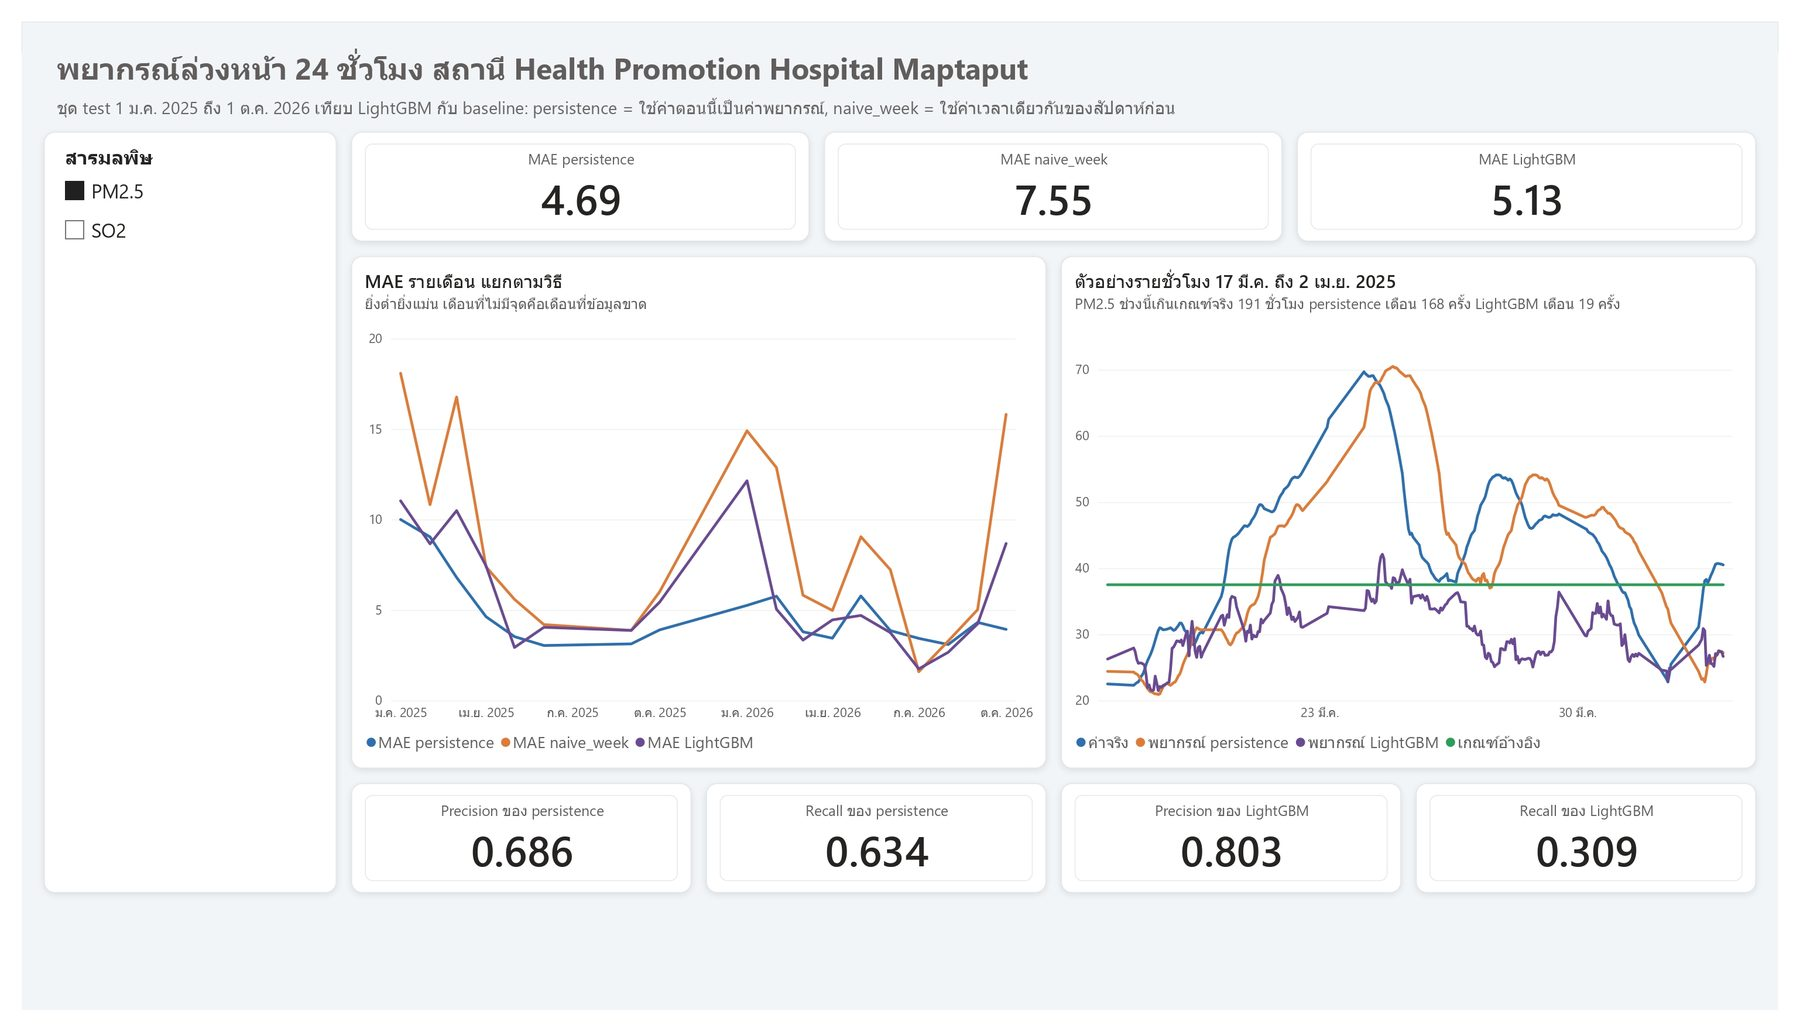

What the dashboard file says about the page in this screenshot:
{"tool":"powerbi","page":{"name":"พยากรณ์","canvas":[1920,1080],"ordinal":2},"visuals":[{"type":"textbox","box":[24.3,15.7,1871.4,72.9],"z":0},{"type":"textbox","box":[24.3,68.6,1871.4,51.4],"z":1000},{"type":"slicer","fields":{"Values":["forecast.pollutant_name"]},"box":[23.9,119.6,320.2,831.9],"z":2000},{"type":"cardVisual","fields":{"Data":["forecast.MAE persistence"]},"box":[360,120,501,120],"z":4000},{"type":"cardVisual","fields":{"Data":["forecast.MAE naive_week"]},"box":[877,120,501,120],"z":5000},{"type":"cardVisual","fields":{"Data":["forecast.MAE LightGBM"]},"box":[1394,120,502,120],"z":6000},{"type":"lineChart","title":"MAE รายเดือน แยกตามวิธี","fields":{"Category":["date.MonthStart"],"Y":["forecast.MAE persistence","forecast.MAE naive_week","forecast.MAE LightGBM"]},"box":[360,256,760,560],"z":7000},{"type":"lineChart","title":"ตัวอย่างรายชั่วโมง 17 มี.ค. ถึง 2 เม.ย. 2025","fields":{"Category":["forecast.target_time"],"Y":["forecast.ค่าจริง","forecast.พยากรณ์ persistence","forecast.พยากรณ์ LightGBM","forecast.เกณฑ์อ้างอิง"]},"box":[1136,256,760,560],"z":8000},{"type":"cardVisual","fields":{"Data":["forecast.Precision persistence"]},"box":[360,832,372,120],"z":9100},{"type":"cardVisual","fields":{"Data":["forecast.Recall persistence"]},"box":[748,832,372,120],"z":9101},{"type":"cardVisual","fields":{"Data":["forecast.Precision LightGBM"]},"box":[1136,832,372,120],"z":9102},{"type":"cardVisual","fields":{"Data":["forecast.Recall LightGBM"]},"box":[1524,832,372,120],"z":9103}]}

Visuals, with their boxes in screenshot pixels (x1, y1, x2, y2), scaled from the page's 1920x1080 canvas onto the 1800x1032 screenshot:
textbox: x1=23, y1=15, x2=1777, y2=85
textbox: x1=23, y1=66, x2=1777, y2=115
slicer - forecast.pollutant_name: x1=22, y1=114, x2=323, y2=909
cardVisual - forecast.MAE persistence: x1=338, y1=115, x2=807, y2=229
cardVisual - forecast.MAE naive_week: x1=822, y1=115, x2=1292, y2=229
cardVisual - forecast.MAE LightGBM: x1=1307, y1=115, x2=1778, y2=229
"MAE รายเดือน แยกตามวิธี" lineChart: x1=338, y1=245, x2=1050, y2=780
"ตัวอย่างรายชั่วโมง 17 มี.ค. ถึง 2 เม.ย. 2025" lineChart: x1=1065, y1=245, x2=1778, y2=780
cardVisual - forecast.Precision persistence: x1=338, y1=795, x2=686, y2=910
cardVisual - forecast.Recall persistence: x1=701, y1=795, x2=1050, y2=910
cardVisual - forecast.Precision LightGBM: x1=1065, y1=795, x2=1414, y2=910
cardVisual - forecast.Recall LightGBM: x1=1429, y1=795, x2=1778, y2=910
